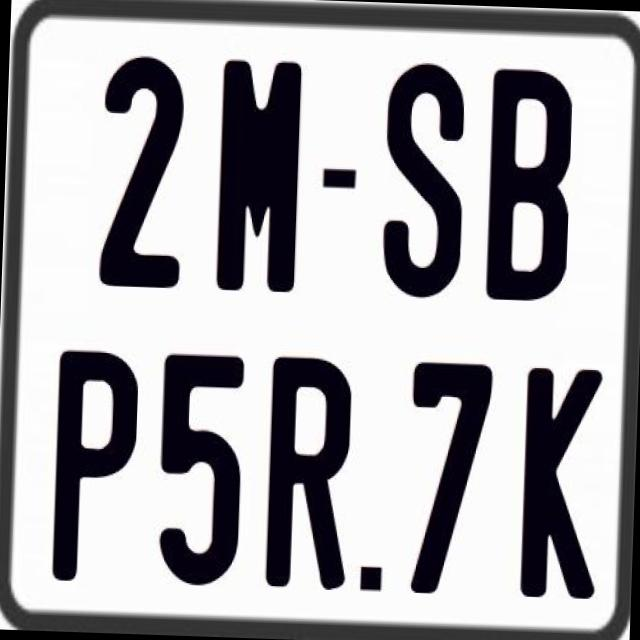2: (98, 50, 190, 284)
5: (152, 350, 247, 586)
7: (403, 358, 493, 592)
B: (484, 64, 576, 304)
K: (520, 367, 604, 608)
M: (213, 58, 304, 292)
P: (49, 349, 136, 587)
R: (262, 353, 356, 594)
S: (381, 58, 469, 299)
